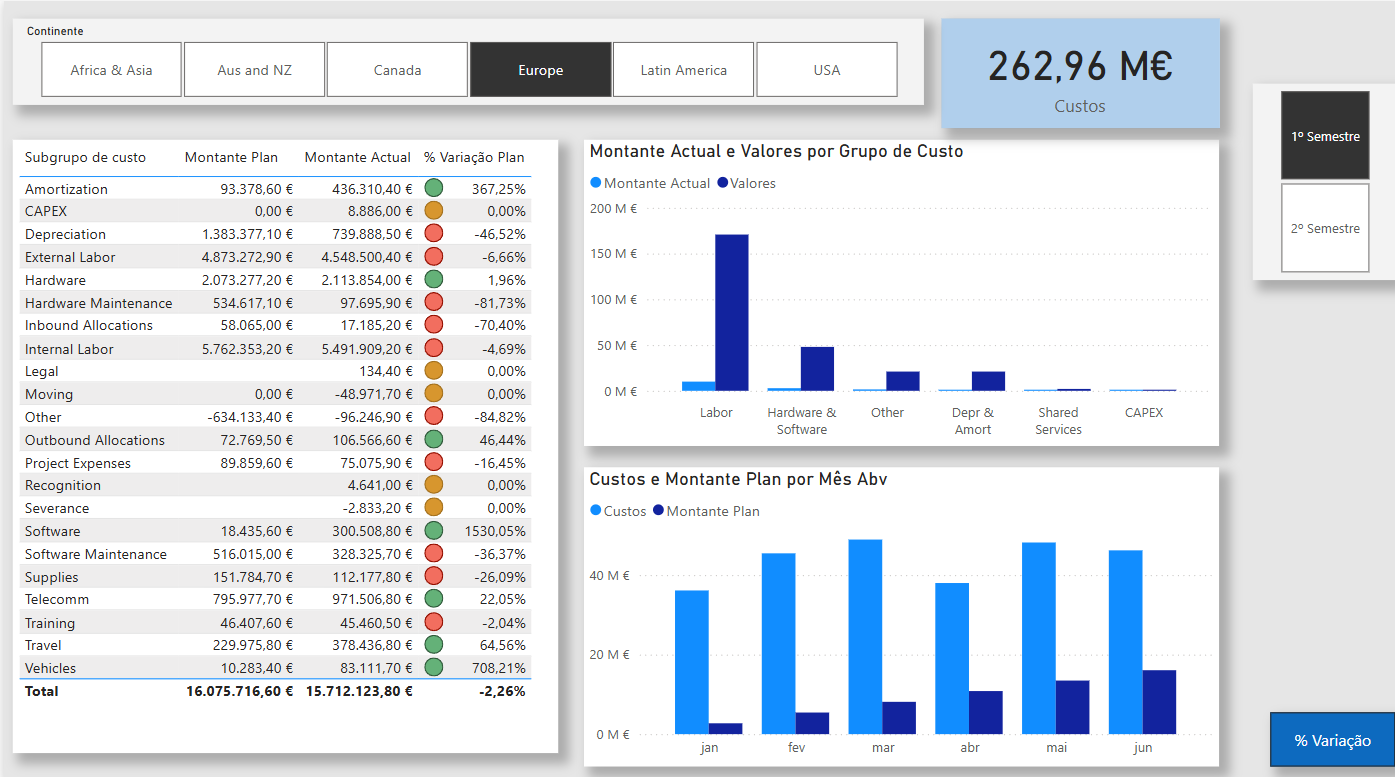

Layout of this report page (visuals, bound fields, positions):
{"tool":"powerbi","page":{"name":"Custo","canvas":[1280,720],"ordinal":2},"visuals":[{"type":"slicer","fields":{"Values":["Geografia.Continente"]},"box":[7.5,16,837.5,79],"z":1},{"type":"clusteredColumnChart","fields":{"Category":["Custos.Grupo de Custo"],"Y":["Medidas.Montante Actual","Medidas.Valores"]},"box":[533.9,127.8,583.7,282],"z":2},{"type":"clusteredColumnChart","fields":{"Category":["Calendário.Mês Abv"],"Y":["Medidas.Custos","Medidas.Montante Plan"]},"box":[533.9,428.6,583.7,275.4],"z":3},{"type":"tableEx","fields":{"Values":["Custos.Subgrupo de custo","Medidas.Montante Plan","Medidas.Montante Actual","Medidas.% Variação Plan"]},"box":[7.5,127.8,501.9,564],"z":4},{"type":"card","fields":{"Values":["Medidas.Custos"]},"box":[861.9,16,255.7,100.6],"z":5},{"type":"slicer","fields":{"Values":["Calendário.Semestre"]},"box":[1148.6,76.1,131.6,180.5],"z":6},{"type":"pageNavigator","box":[1164.6,654.2,115.6,50],"z":7}]}

Visuals, with their boxes in screenshot pixels (x1, y1, x2, y2), scaled from the page's 1280x720 canvas onto the 1395x777 screenshot:
slicer - Geografia.Continente: bbox=(8, 17, 921, 103)
clusteredColumnChart - Custos.Grupo de Custo x Medidas.Montante Actual: bbox=(582, 138, 1218, 442)
clusteredColumnChart - Calendário.Mês Abv x Medidas.Custos: bbox=(582, 463, 1218, 760)
tableEx - Custos.Subgrupo de custo x Medidas.Montante Plan: bbox=(8, 138, 555, 747)
card - Medidas.Custos: bbox=(939, 17, 1218, 126)
slicer - Calendário.Semestre: bbox=(1252, 82, 1394, 277)
pageNavigator: bbox=(1269, 706, 1394, 760)
